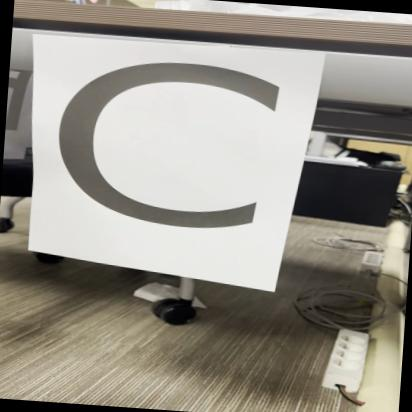seat: (32, 36, 287, 280)
